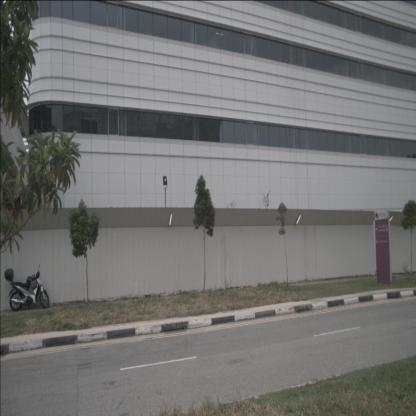vehicle-motorcycle: (4, 262, 50, 311)
